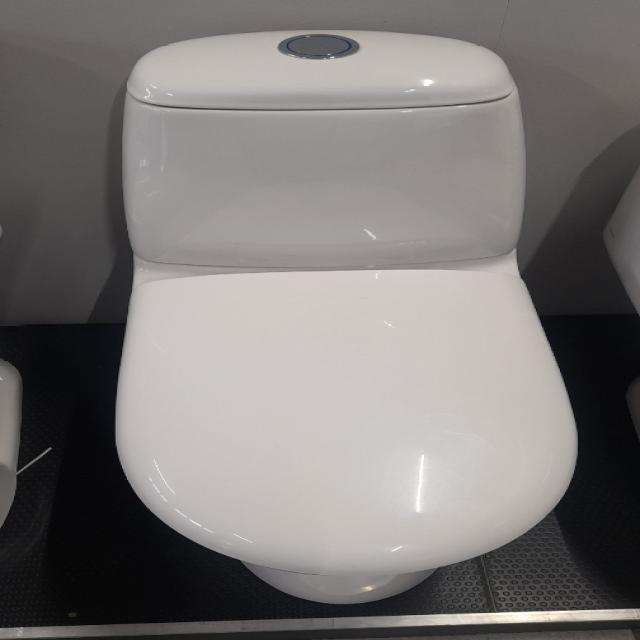toilet: (113, 29, 579, 604)
